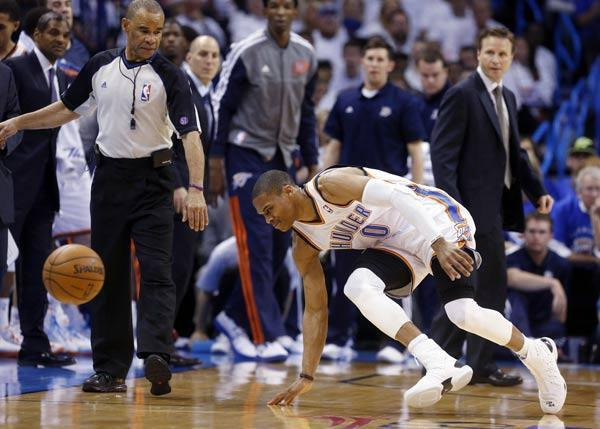10+: (1, 1, 600, 421)
down: (247, 164, 576, 417)
